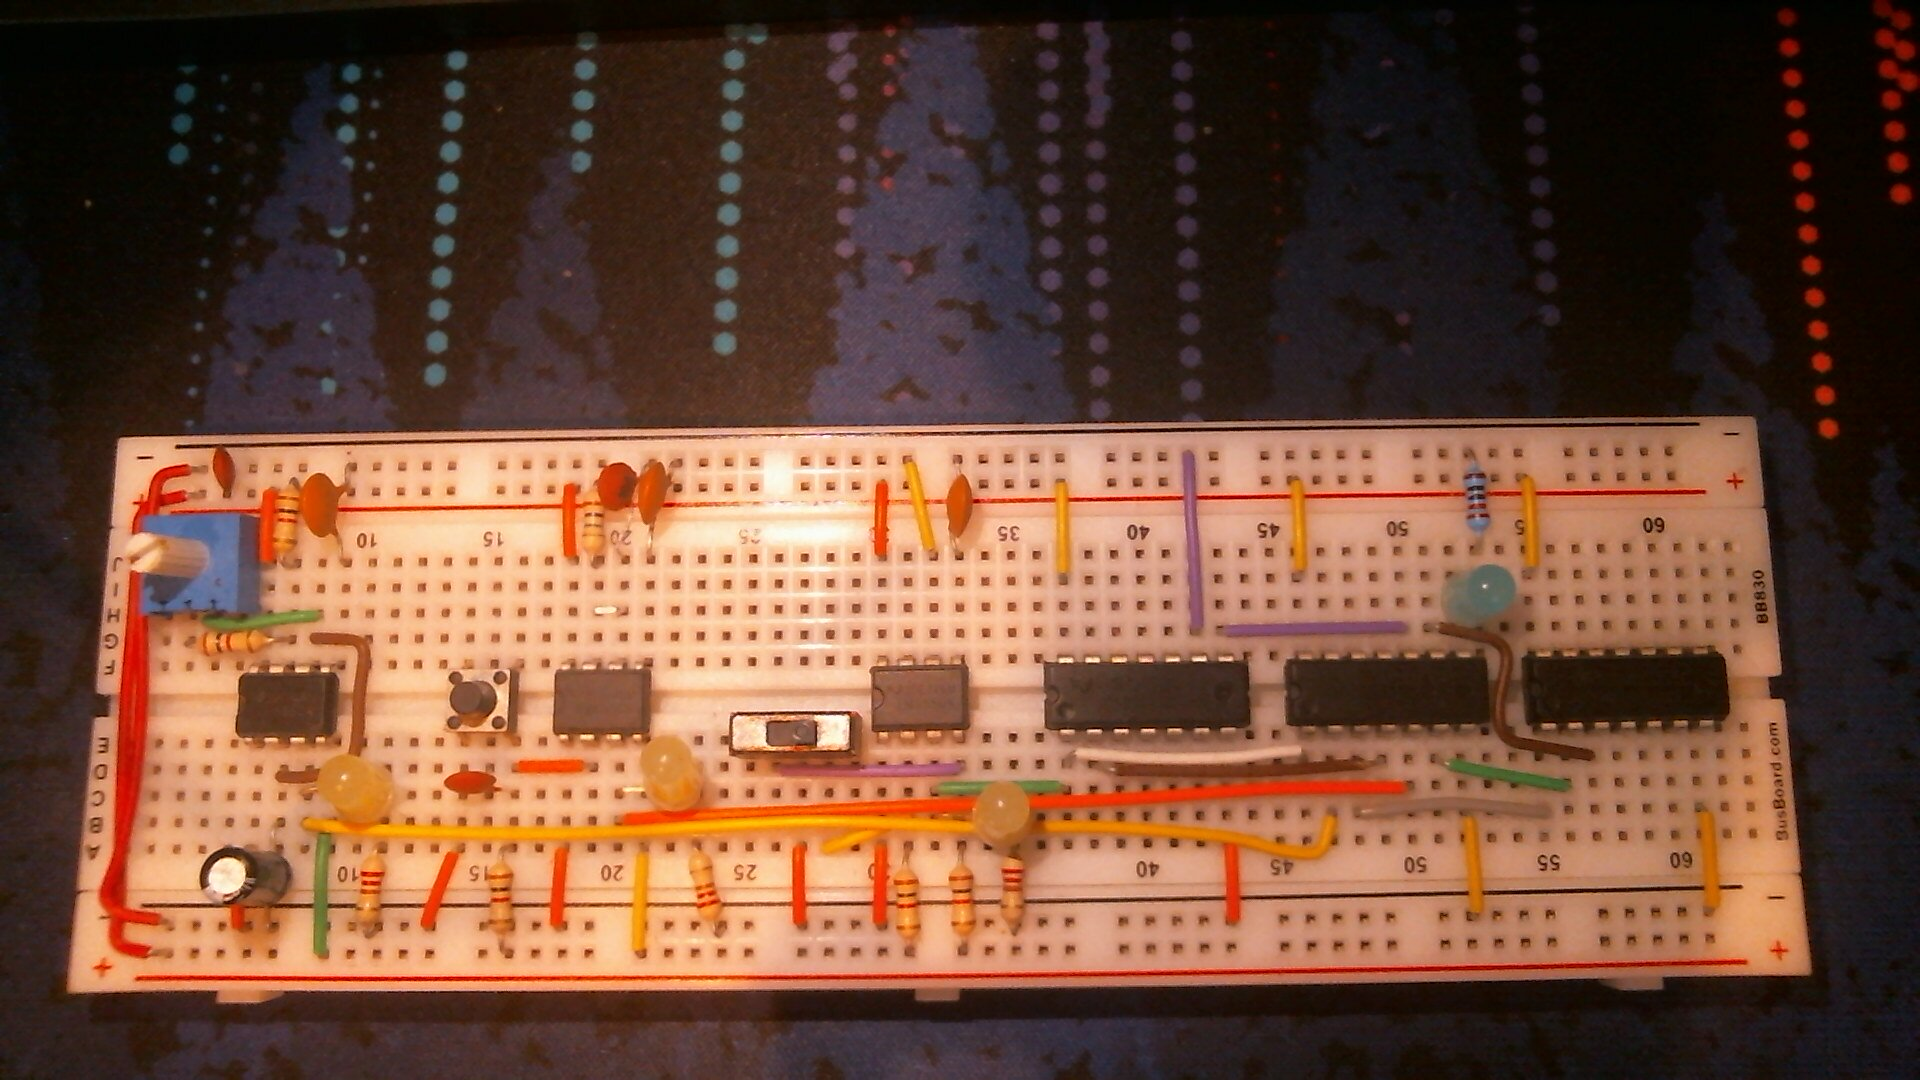IC: (1520, 647, 1733, 735), (1282, 650, 1494, 733), (1040, 655, 1254, 736), (866, 657, 973, 741), (233, 665, 342, 748), (550, 663, 654, 742)
LED: (314, 753, 400, 827), (637, 732, 708, 816), (1443, 563, 1518, 629), (969, 781, 1035, 851)
ceramic_capacitor: (295, 469, 355, 545), (636, 460, 675, 534), (945, 468, 976, 551), (595, 462, 640, 514), (439, 769, 502, 796), (208, 444, 237, 496)
electrolytic_capacitor: (196, 844, 297, 920)
resistor: (684, 847, 728, 928), (352, 847, 390, 936), (483, 855, 520, 944), (890, 857, 926, 949), (944, 861, 980, 945), (1458, 456, 1494, 541), (996, 851, 1030, 935), (269, 477, 301, 566), (191, 626, 278, 658), (578, 485, 608, 563)
